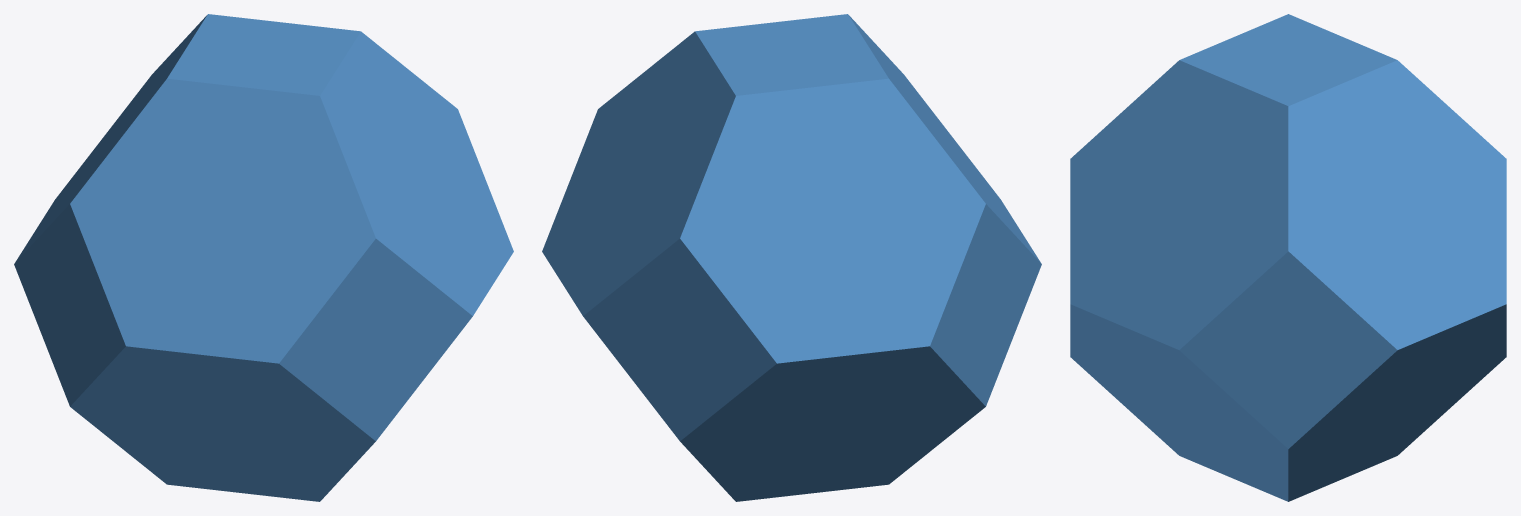
File: 10.OctaedroTruncado.gltf
3 views of the same model, side by side, from view 1: azimuth 30°, elevation 25°; view 2: azimuth 150°, elevation 25°; view 3: azimuth 270°, elevation 25° (orthographic). The views are drawn at different scales.
Parts seen in each view (by area): view 1: Solid.006; view 2: Solid.006; view 3: Solid.006.
Boxes of the visible parts, x1,y1,x2,y2 form: Solid.006: (14,14,513,501); Solid.006: (542,14,1041,501); Solid.006: (1070,14,1506,501).
Size of the model in its own units: 1.33 by 1.33 by 1.33.
